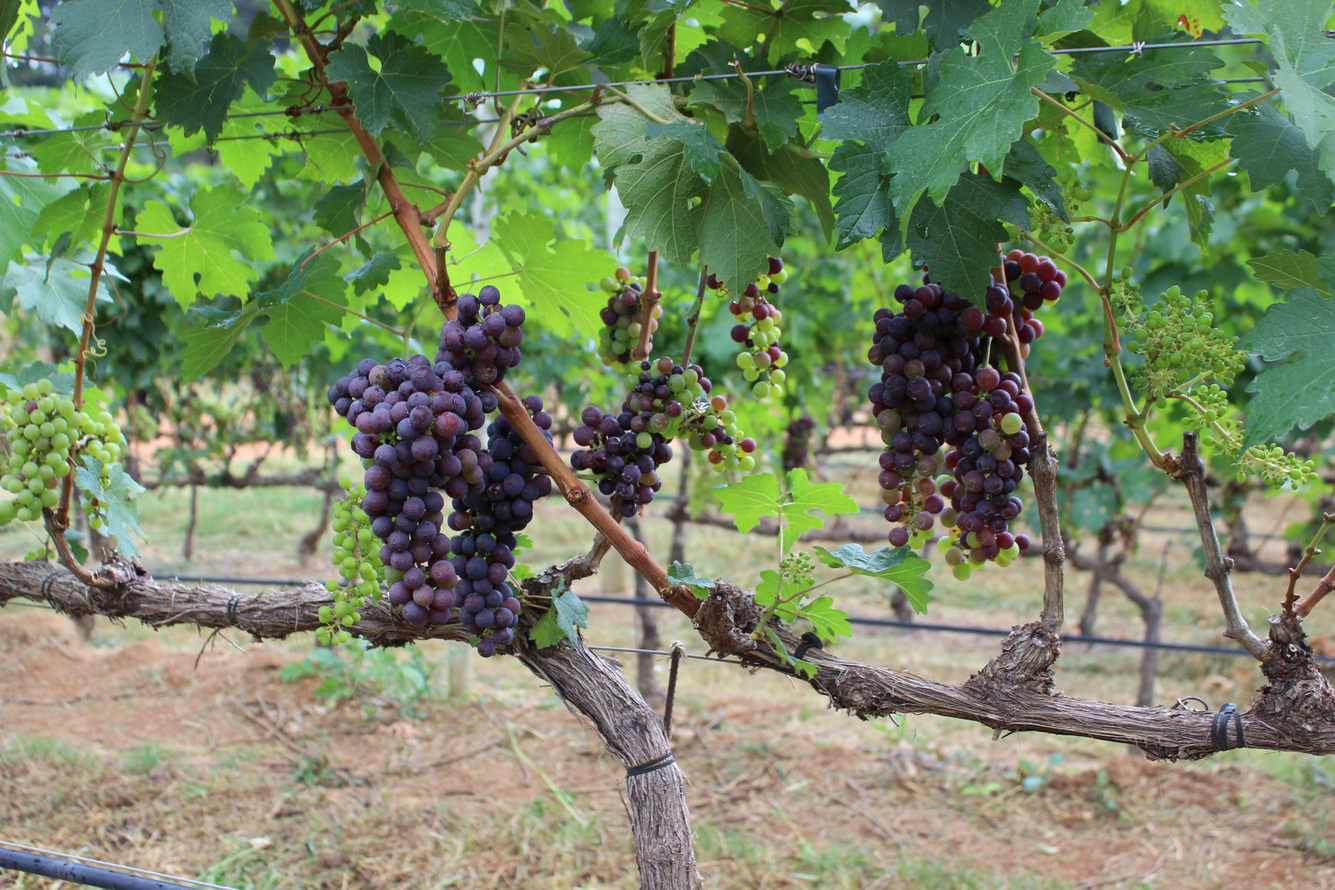leaf: (887, 0, 1055, 214), (136, 185, 273, 307), (905, 173, 1030, 305), (1240, 287, 1335, 447), (492, 212, 614, 335), (327, 32, 450, 142), (155, 33, 276, 141), (727, 127, 835, 240), (1225, 101, 1335, 211), (256, 251, 346, 367), (695, 161, 776, 289), (50, 0, 165, 82), (690, 76, 802, 151), (814, 543, 933, 613), (718, 0, 851, 59), (74, 456, 146, 559), (3, 252, 94, 333), (181, 300, 259, 382), (875, 0, 990, 50), (1001, 139, 1069, 221), (158, 0, 233, 73), (644, 118, 726, 182), (501, 22, 588, 76), (1247, 249, 1331, 297), (313, 182, 366, 237), (1036, 0, 1094, 45), (666, 561, 715, 598), (96, 265, 118, 302), (353, 233, 373, 258), (497, 279, 509, 292), (265, 46, 268, 53), (1322, 257, 1328, 259), (252, 31, 254, 34), (122, 277, 123, 280), (896, 175, 897, 178), (628, 228, 628, 232), (730, 159, 730, 159), (104, 264, 105, 264)
